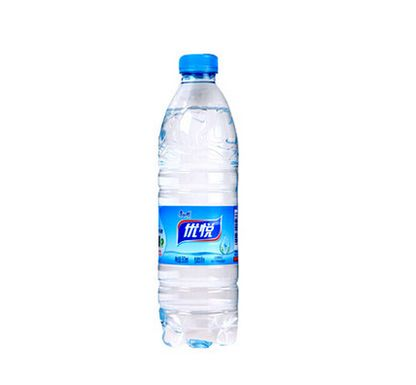amwater: (142, 37, 258, 362)
